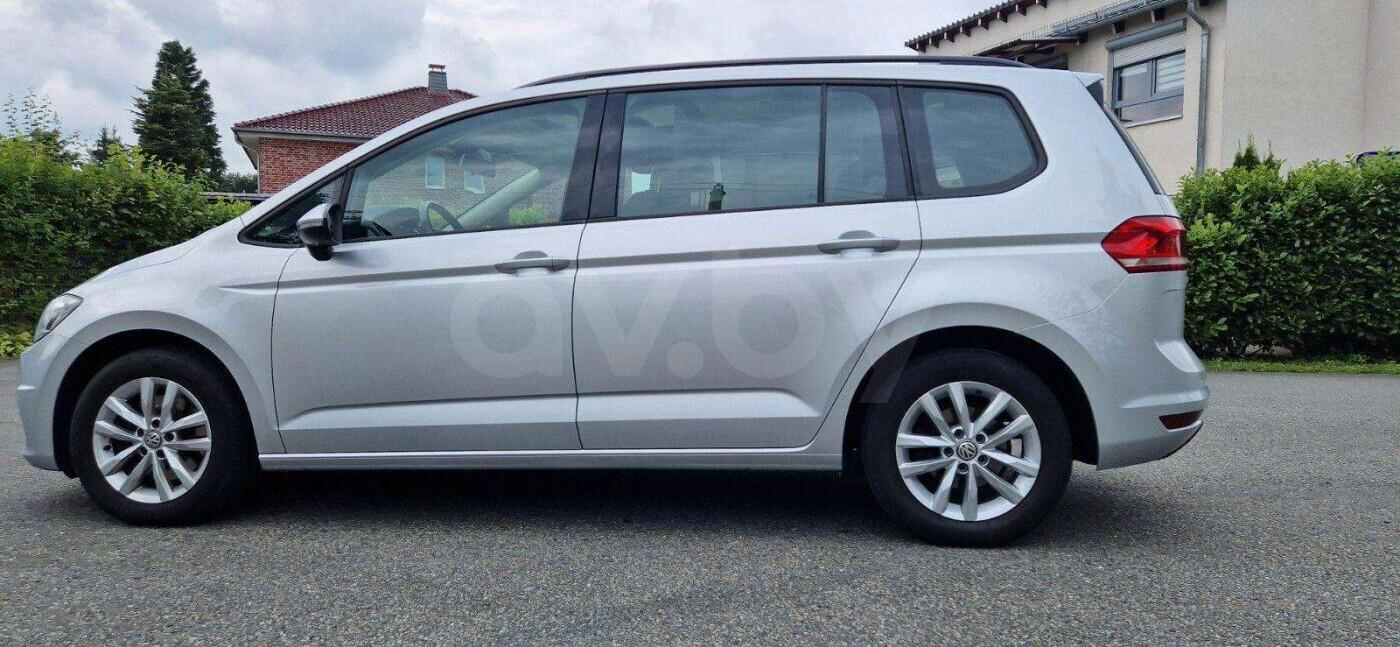Touran_2015: (5, 58, 1220, 541)
